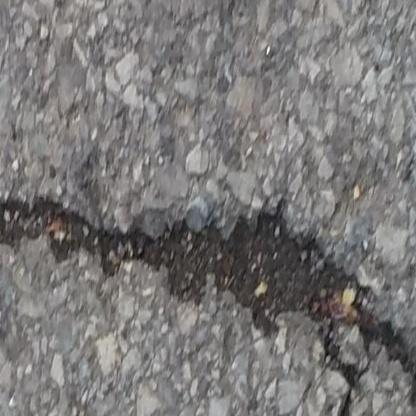Cracks: (0, 198, 416, 416)
